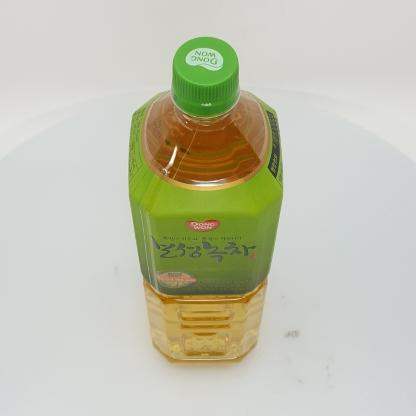------1500ML: (128, 37, 283, 367)
